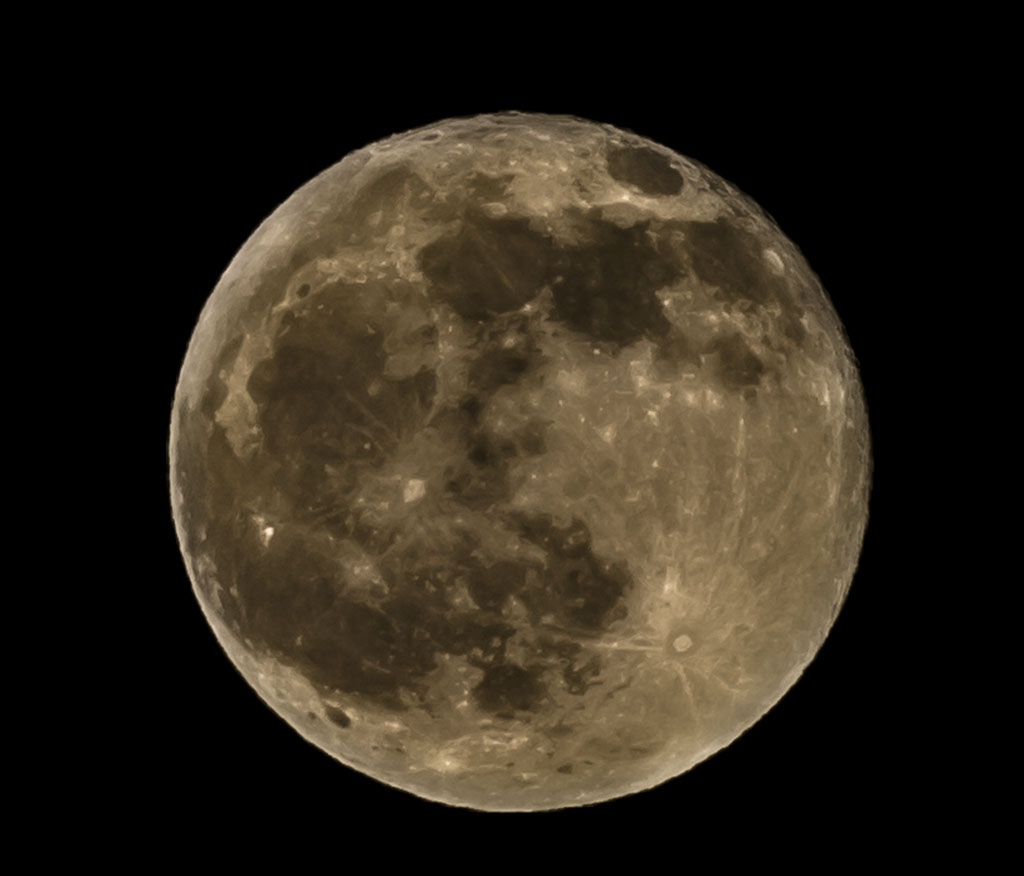crater: (589, 531, 761, 705), (361, 437, 485, 549), (751, 244, 793, 298), (252, 516, 286, 548)
